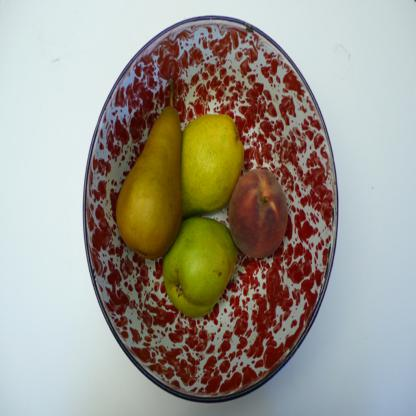Pear: (114, 104, 182, 260), (162, 210, 240, 318)
